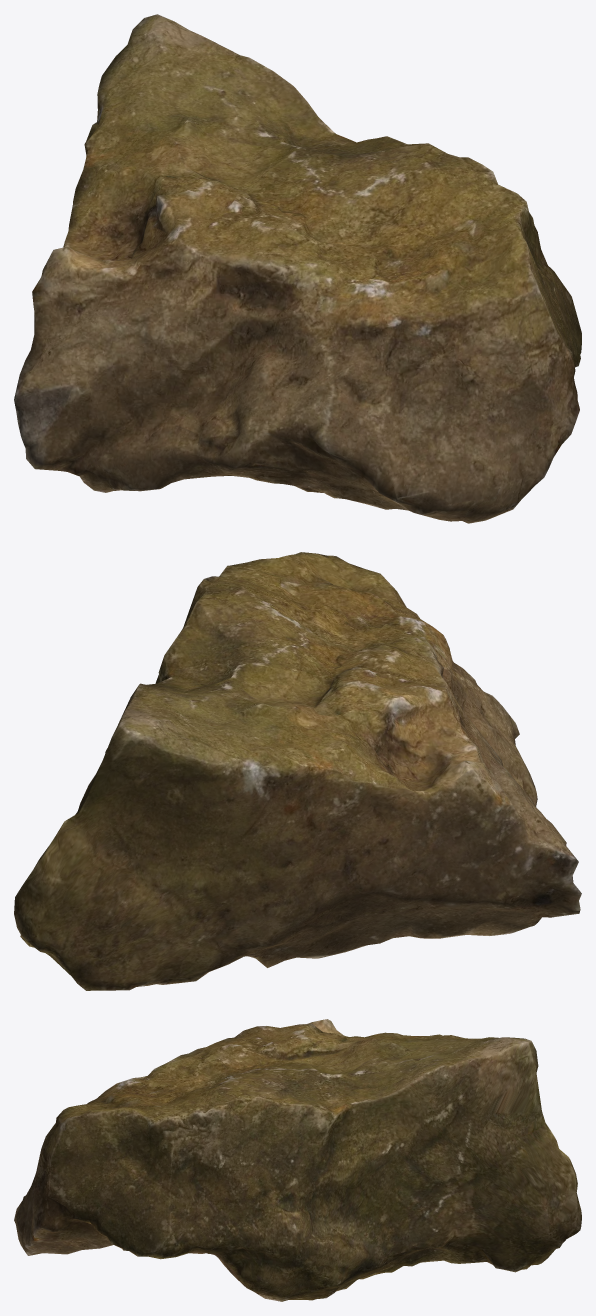
File: rock_moss_01_r06.glb
The picture shows the model from 3 angles, top to bottom: view 1: azimuth 30°, elevation 25°; view 2: azimuth 150°, elevation 25°; view 3: azimuth 270°, elevation 25°; orthographic projection. The views are drawn at different scales.
Visible parts, largest first — view 1: rock_moss_01_r06_LOD0; view 2: rock_moss_01_r06_LOD0; view 3: rock_moss_01_r06_LOD0.
Boxes of the visible parts, x1,y1,x2,y2 form: rock_moss_01_r06_LOD0: [14, 14, 581, 523]; rock_moss_01_r06_LOD0: [14, 552, 581, 990]; rock_moss_01_r06_LOD0: [14, 1019, 581, 1301].
Size of what is drawn, in the model's own units: 2.13 by 1.26 by 2.76.
Materials: 1 (1 with a texture image).
